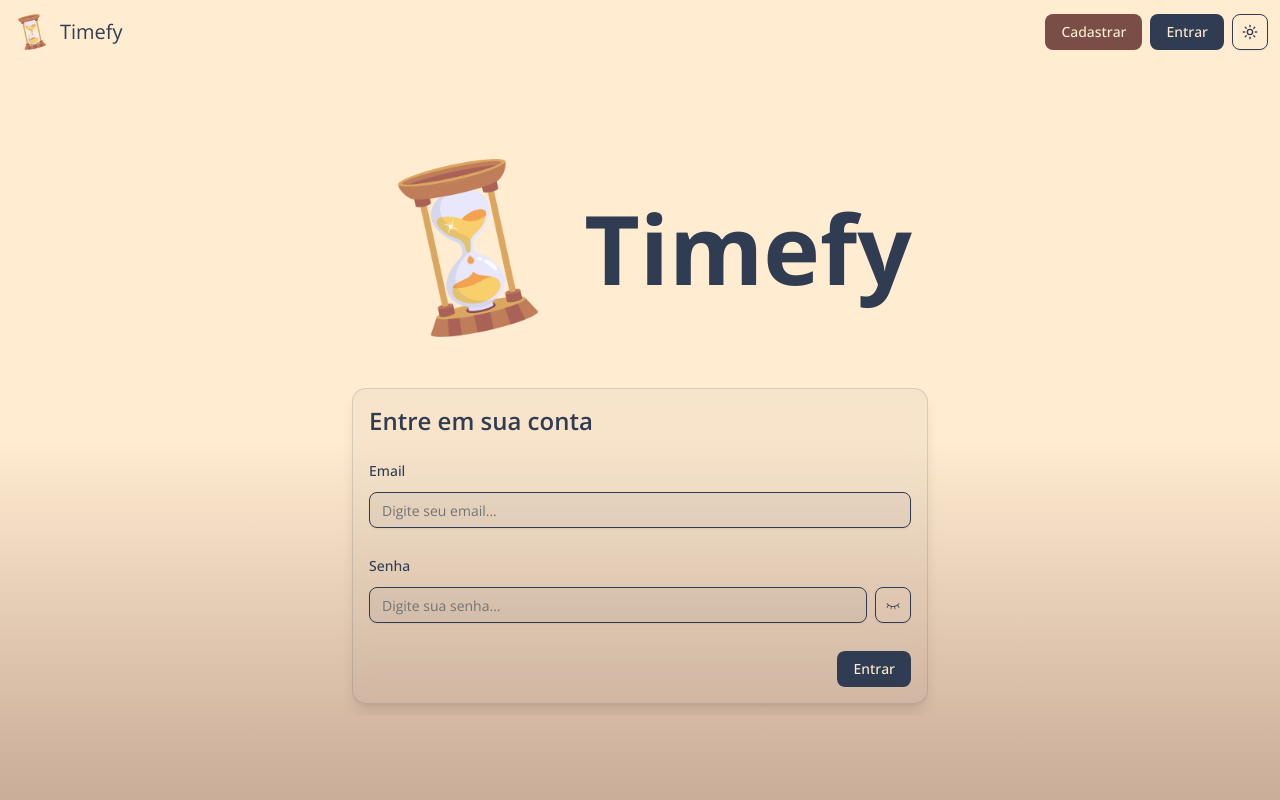
Test: LogInPage › Form Validation › should show error when email is invalid
Type "email@invalid" into the field labelled "Email" at (640, 510), box left=369, top=492, right=911, bottom=528
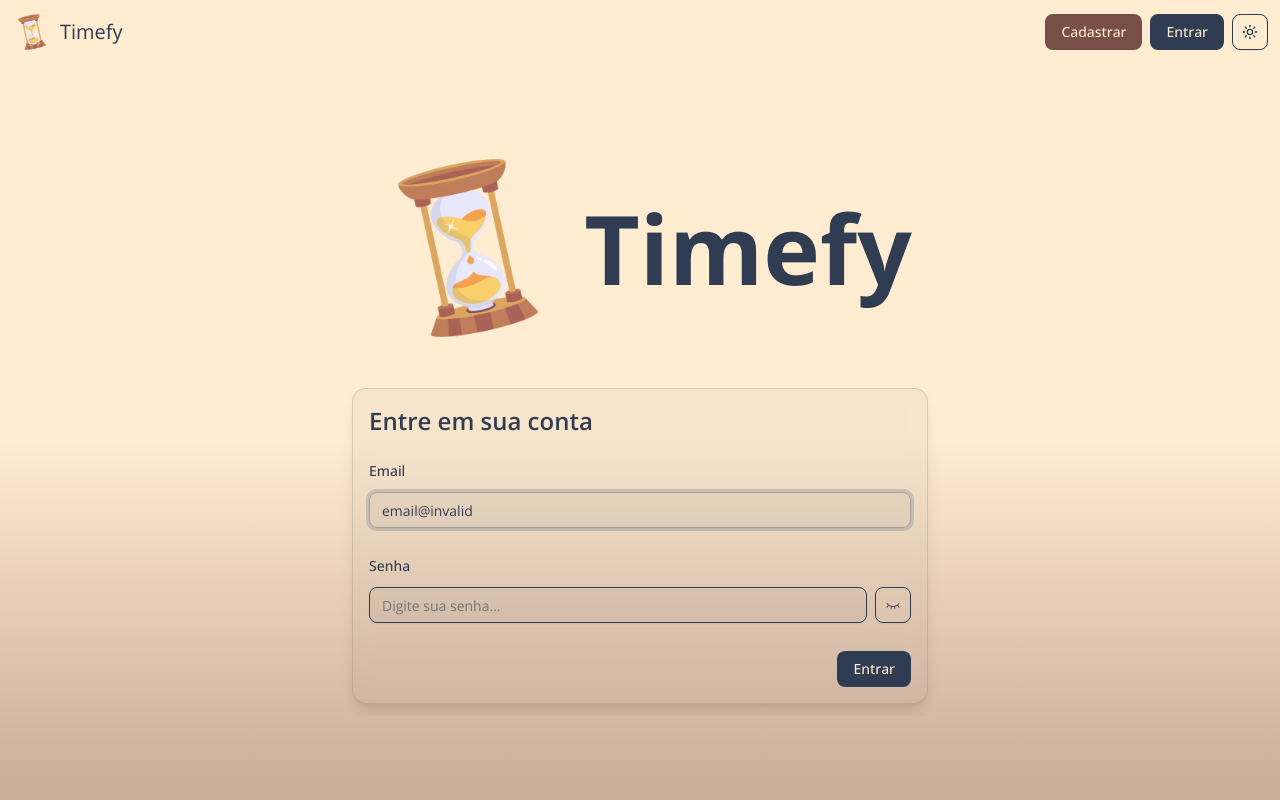
Click the button "Entrar" below "Entre em sua conta" at (874, 669), box left=838, top=651, right=911, bottom=687
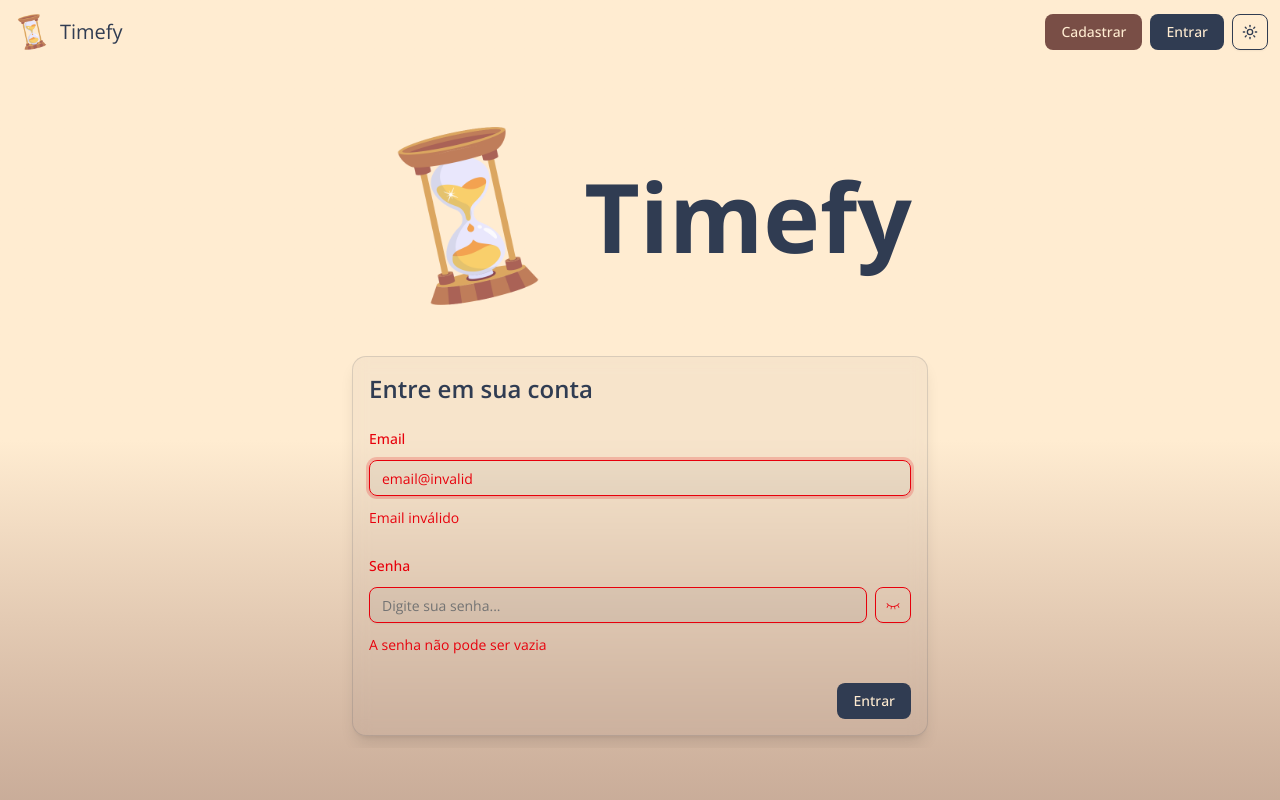
Now the text "Email inválido" is shown, box left=369, top=508, right=459, bottom=527
